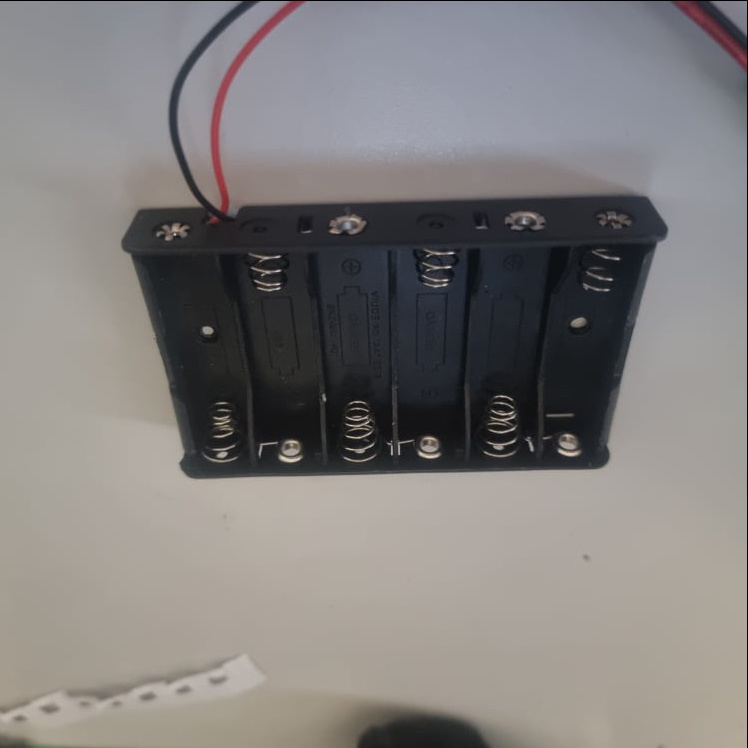BATTERY BOX: (119, 200, 668, 479)
